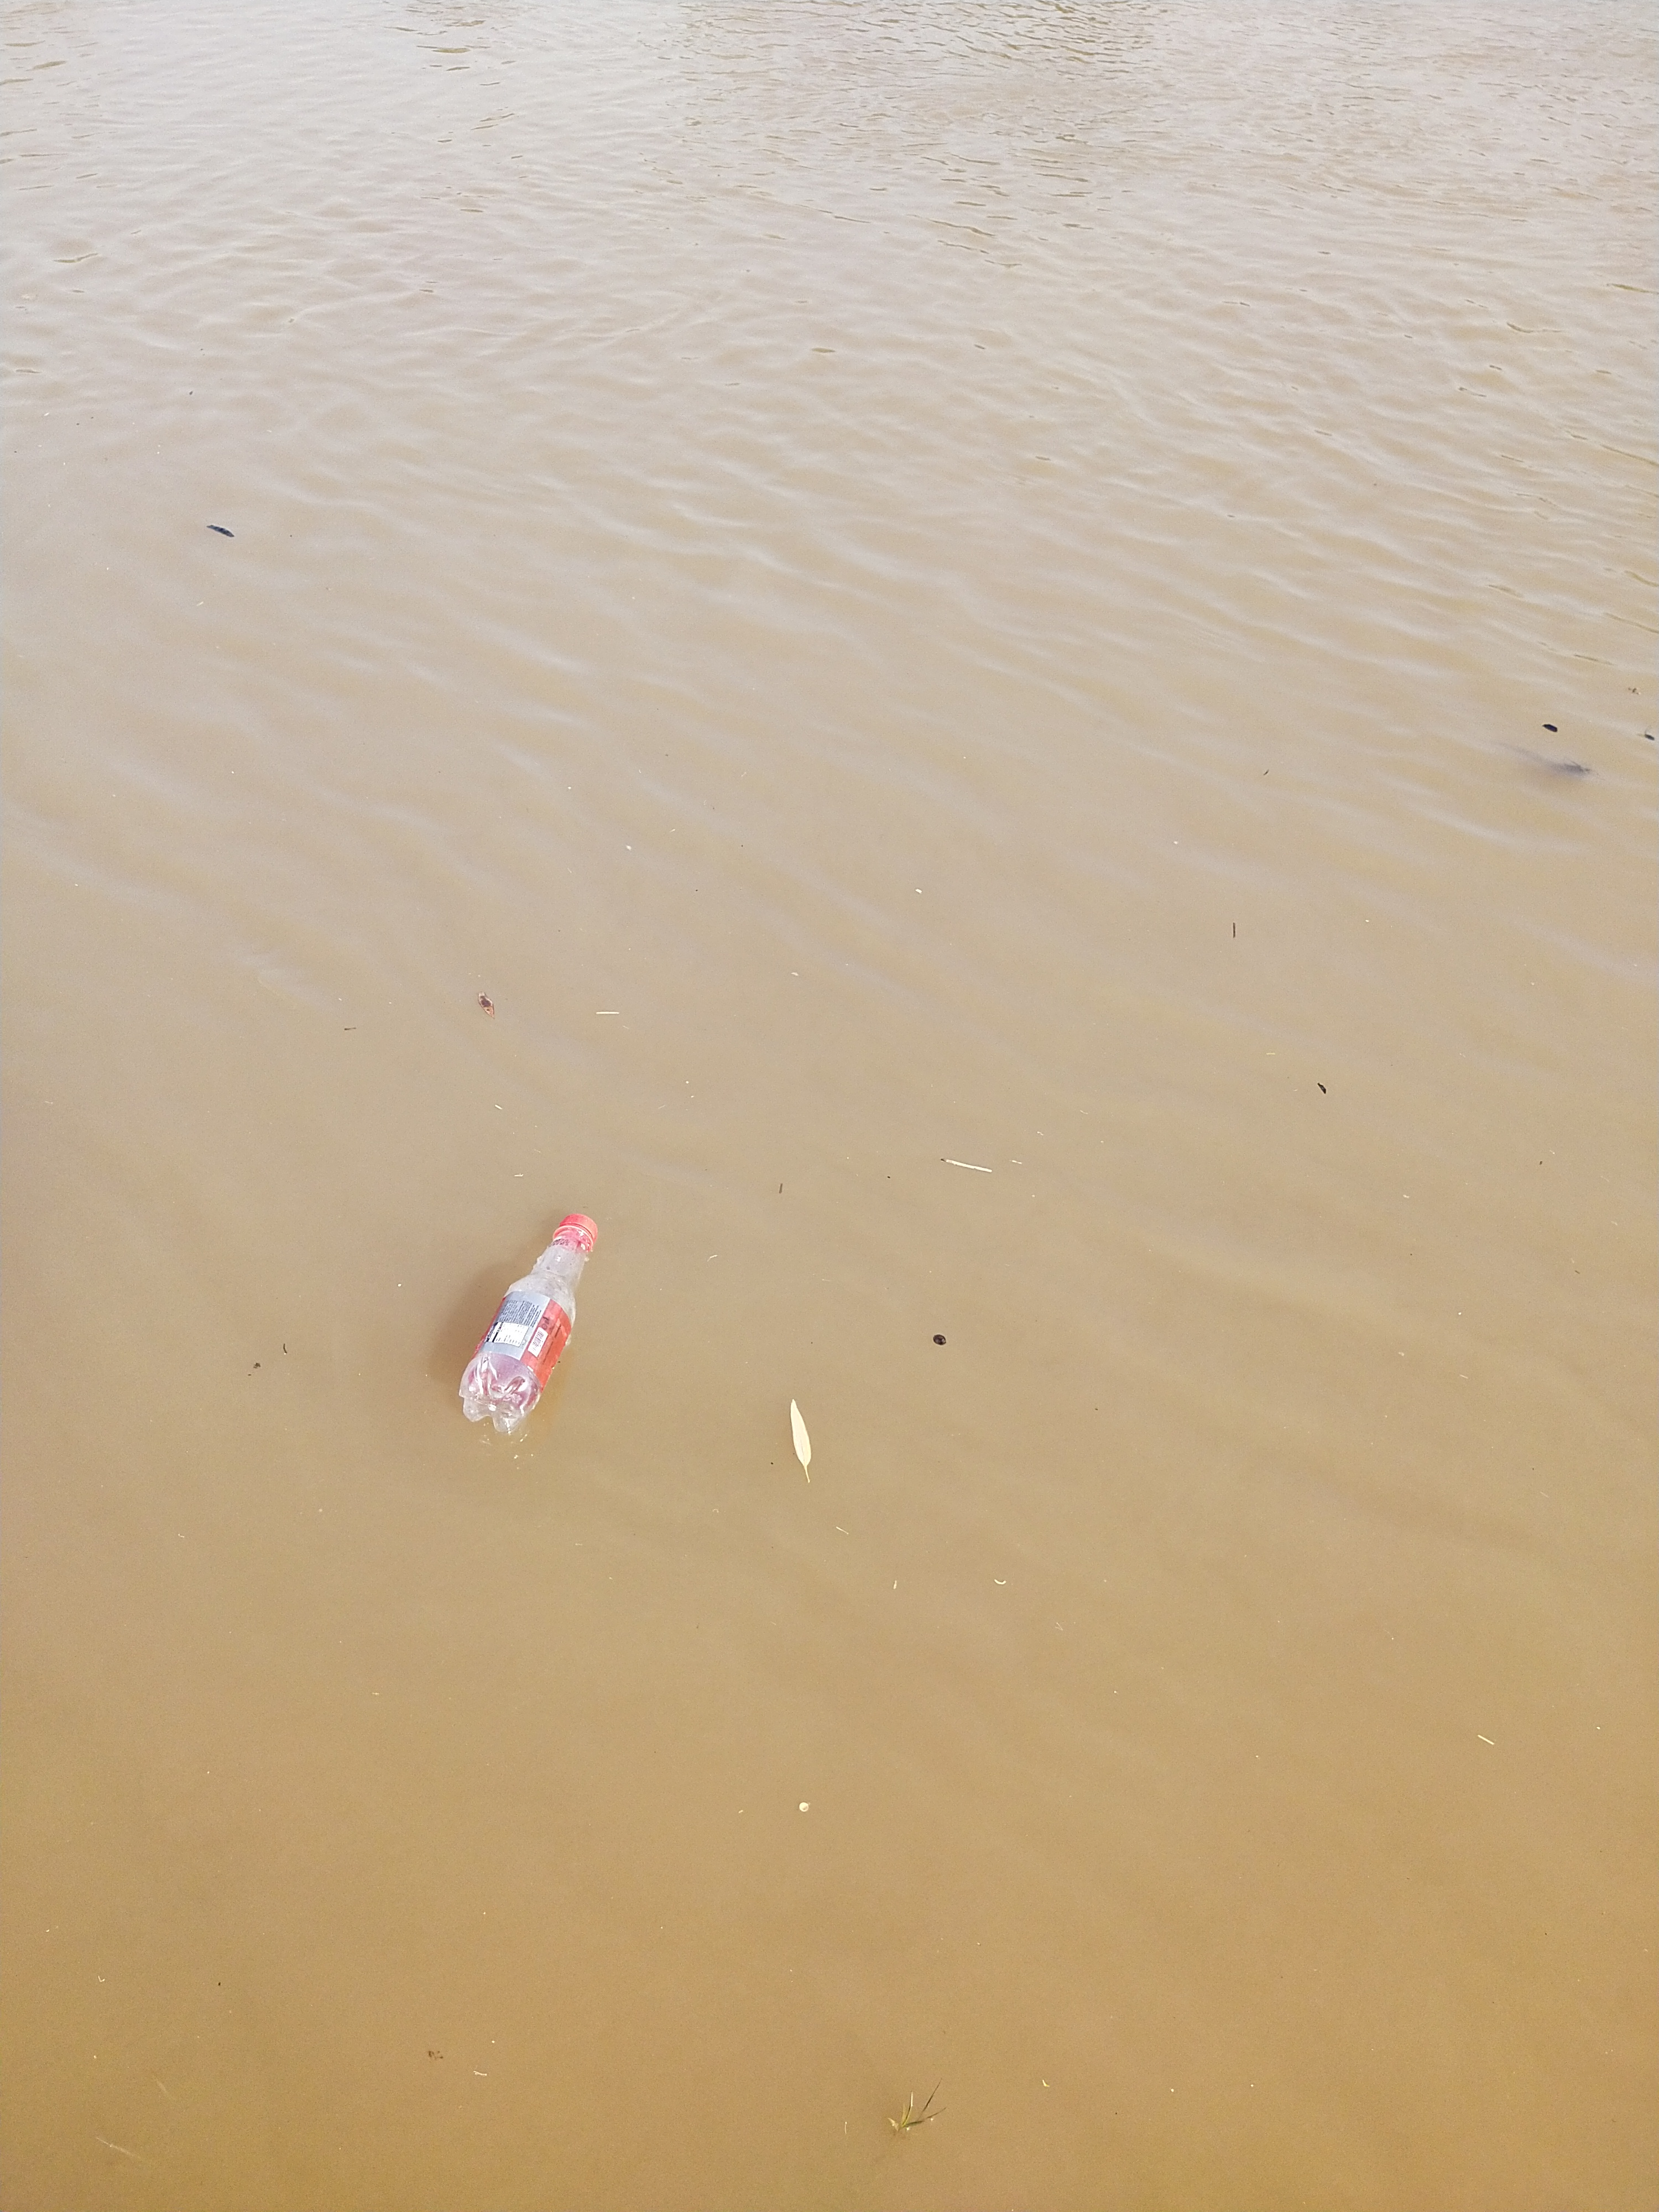Plastic Bottle: (458, 1214, 598, 1435)
